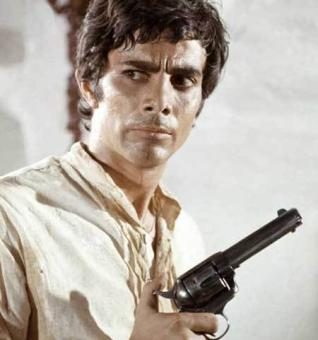Revolver: (155, 196, 306, 335)
